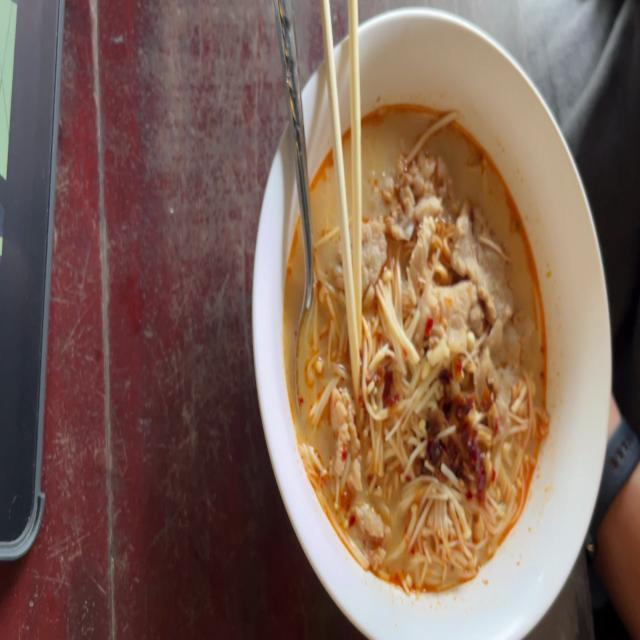noodle: (290, 100, 557, 597)
